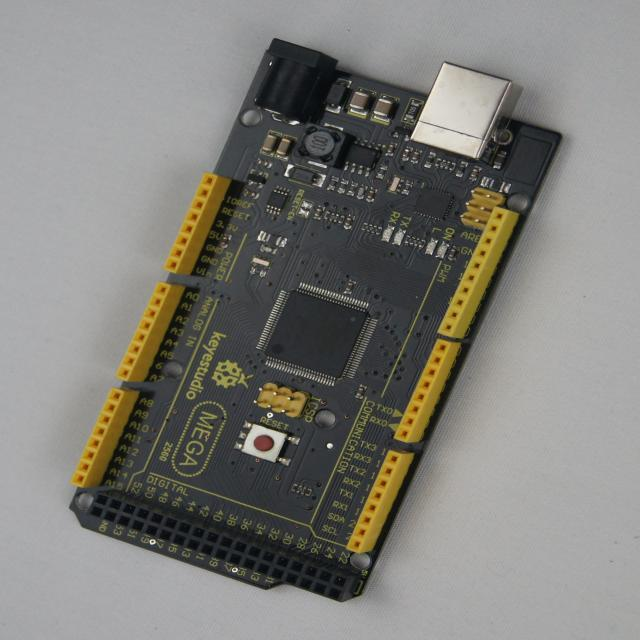Arduino Mega 2560 -Yellow-: (72, 40, 561, 602)
